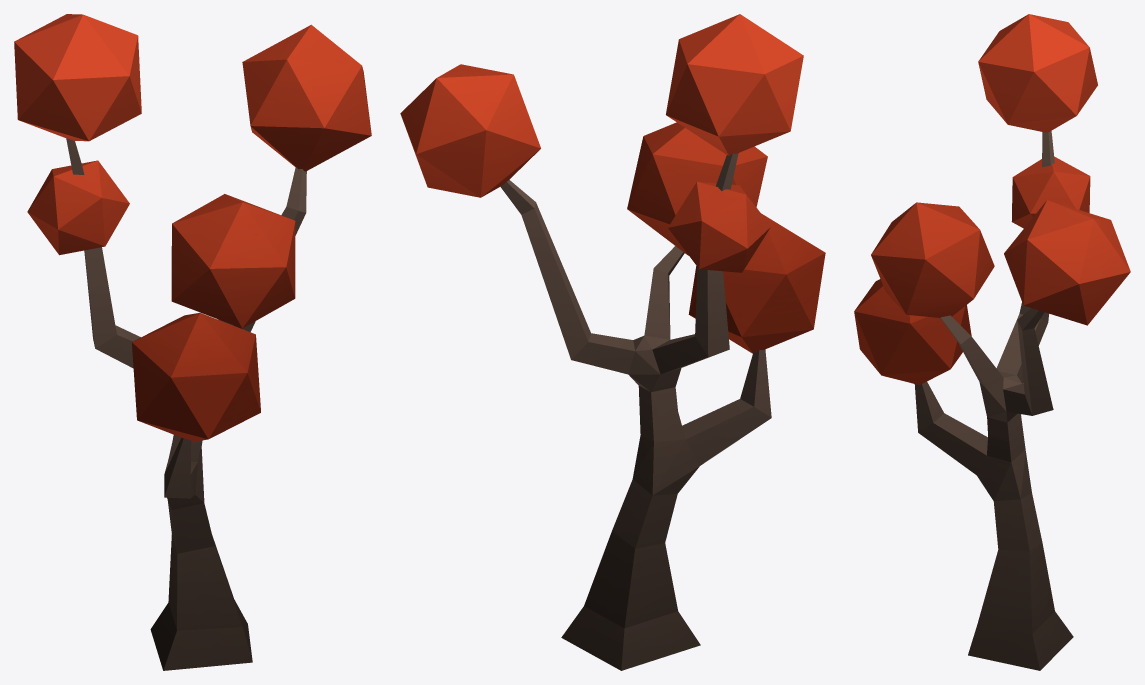
Rendered from Tree_lvl2_01.fbx.
The picture shows the model from 3 angles, left to right: view 1: azimuth 30°, elevation 25°; view 2: azimuth 150°, elevation 25°; view 3: azimuth 270°, elevation 25°; orthographic projection. The views are drawn at different scales.
Parts seen in each view (by area): view 1: Tree__3; view 2: Tree__3; view 3: Tree__3.
Boxes of the visible parts, left/top/right/bottom form: Tree__3: left=14, top=14, right=371, bottom=670; Tree__3: left=400, top=14, right=825, bottom=670; Tree__3: left=854, top=14, right=1130, bottom=670.
Size of the model in its own units: 5.19 by 8.87 by 3.82.
